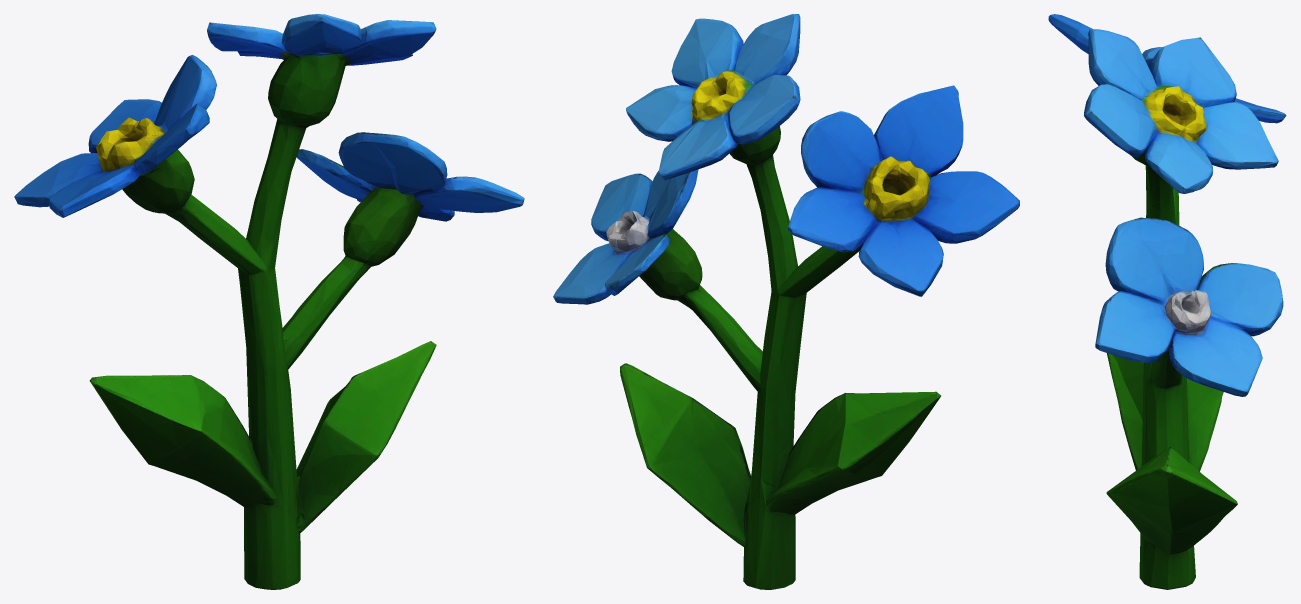
The model's file is alpine_forget_me_not.glb.
3 renders of one model, left to right at view 1: azimuth 30°, elevation 25°; view 2: azimuth 150°, elevation 25°; view 3: azimuth 270°, elevation 25°, orthographic. The views are drawn at different scales.
Parts seen in each view (by area): view 1: world; view 2: world; view 3: world.
Part boxes in pixels (bbox=[...]): world: bbox=[14, 14, 524, 589]; world: bbox=[553, 14, 1019, 589]; world: bbox=[1048, 14, 1286, 589].
Bounding box in the file's own units: 0.818 × 0.9998 × 0.3899.
1 material, 1 textured.
